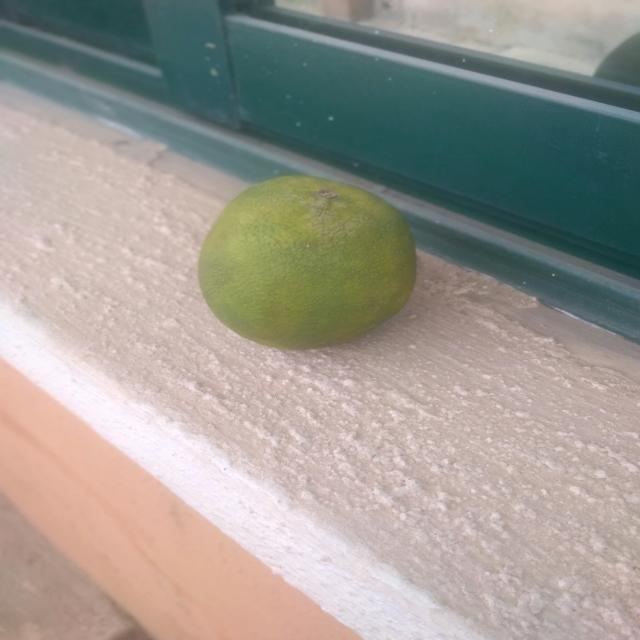agrume: (186, 149, 452, 384)
